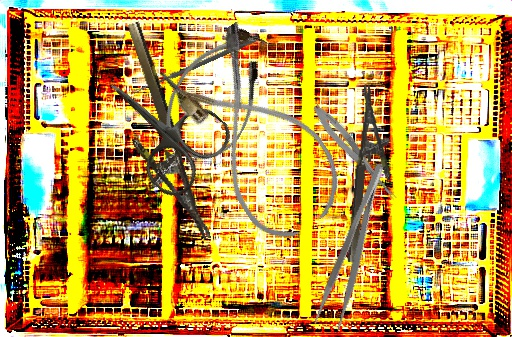Cannula: (155, 17, 358, 252), (150, 14, 286, 172)
Dressing Forceps: (310, 160, 402, 334)
Iris Scissors: (81, 49, 238, 204)
Micro Scissor: (308, 101, 403, 204)
Needle Holder: (97, 20, 212, 252), (345, 84, 400, 266)
Surgical Spoon: (131, 36, 257, 96)
